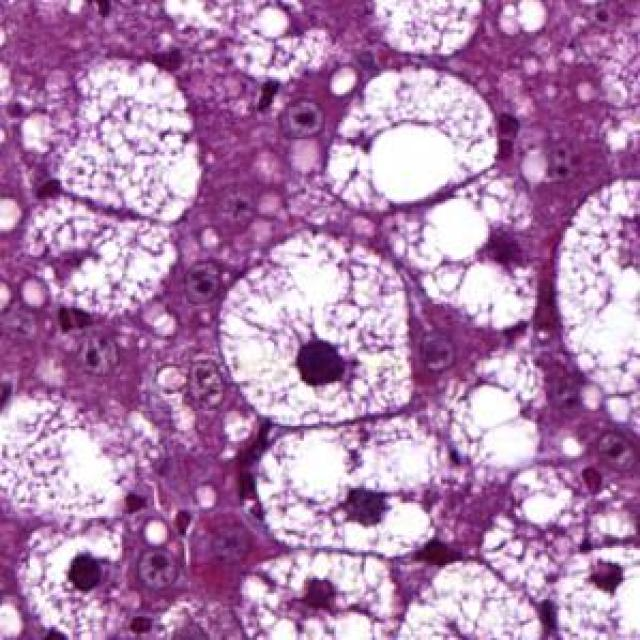ballooning: (214, 227, 422, 437), (319, 58, 505, 216), (248, 413, 448, 559)
